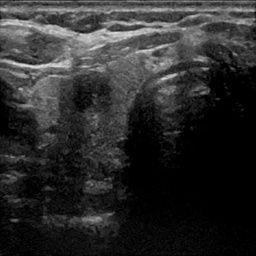mass: (66, 69, 110, 116)
